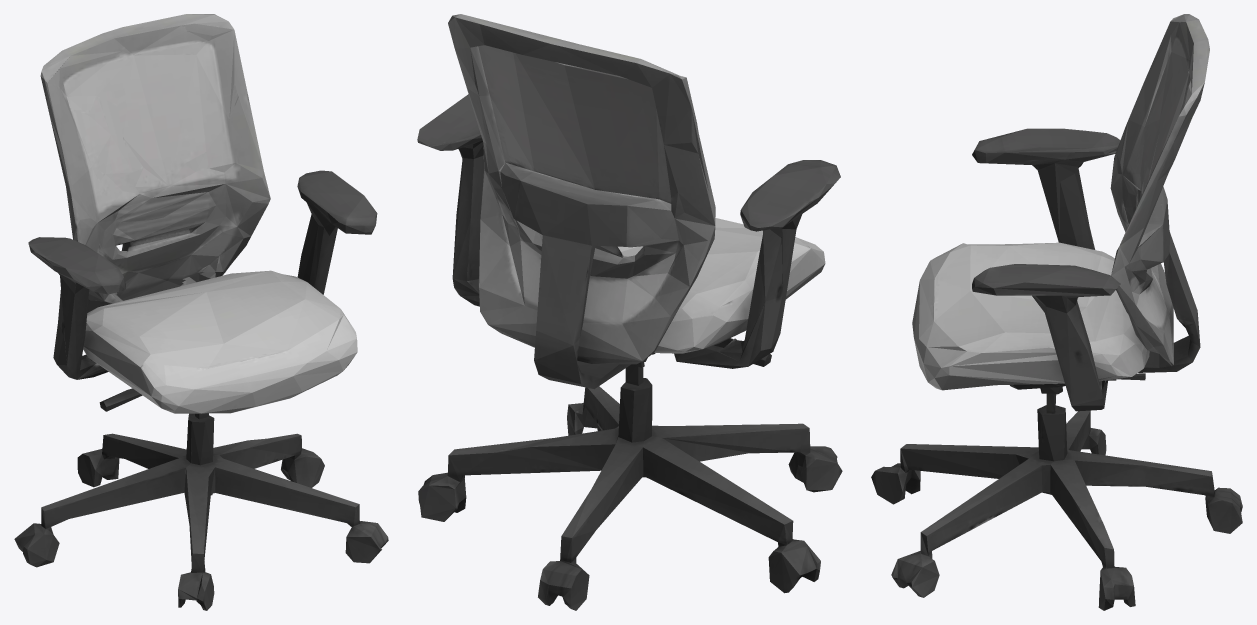
File: hf_chair.glb
3 views of the same model, side by side, from view 1: azimuth 30°, elevation 25°; view 2: azimuth 150°, elevation 25°; view 3: azimuth 270°, elevation 25° (orthographic). The views are drawn at different scales.
Visible parts, largest first — view 1: geometry_0; view 2: geometry_0; view 3: geometry_0.
Part boxes in pixels (bbox=[...]): geometry_0: bbox=[14, 14, 388, 610]; geometry_0: bbox=[417, 14, 842, 610]; geometry_0: bbox=[871, 14, 1242, 610].
Bounding box in the file's own units: 0.7333 × 0.9984 × 0.6908.
1 material, 1 textured.
